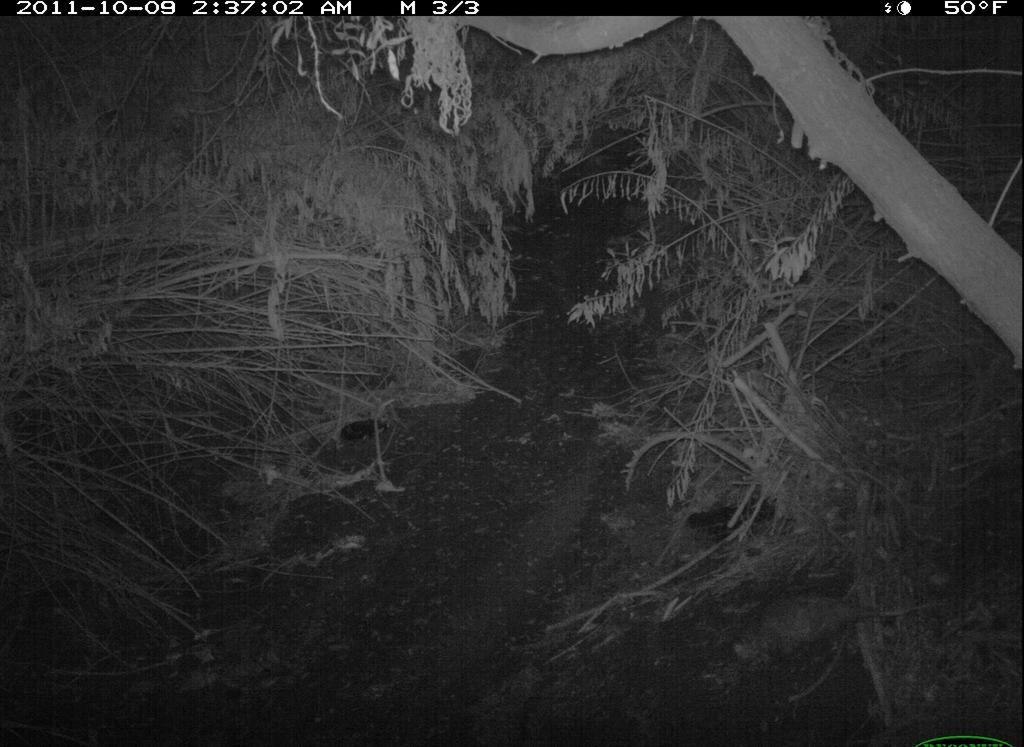opossum: (705, 582, 954, 685)
